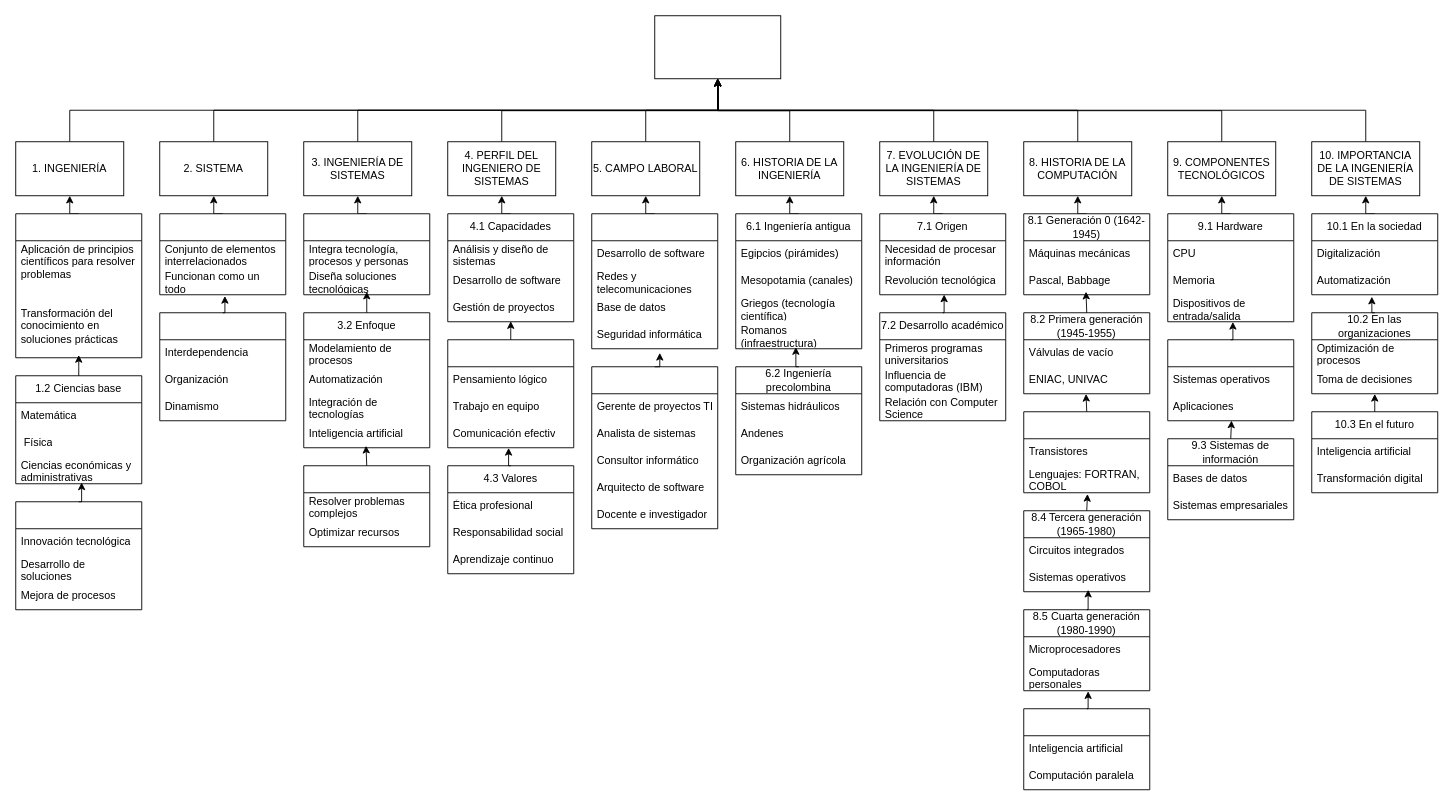
Some shapes in this 1454 by 806 pixel diagram are drawn without their labels. Here are the shapes that lost their labels. From the top down, the box of each, then its label:
(654, 15, 781, 79): INTRODUCCIÓN A LA INGENIERÍA DE SISTEMAS
(159, 213, 286, 295): 2.1 Definición
(303, 213, 430, 295): 3.1 Definición
(15, 213, 142, 358): 1.1 Definición
(591, 213, 718, 349): 5.1 Áreas
(159, 312, 286, 421): 2.2 Características
(1167, 339, 1294, 421): 9.2 Software
(447, 339, 574, 448): 4.2 Habilidades
(591, 366, 718, 529): 5.2 Roles
(1023, 411, 1150, 493): 8.3 Segunda generación (1955-1965)
(303, 465, 430, 547): 3.3 Objetivo
(15, 501, 142, 610): 1.3 Propósito
(1023, 708, 1150, 790): 8.6 Quinta generación (1990-actualidad)
